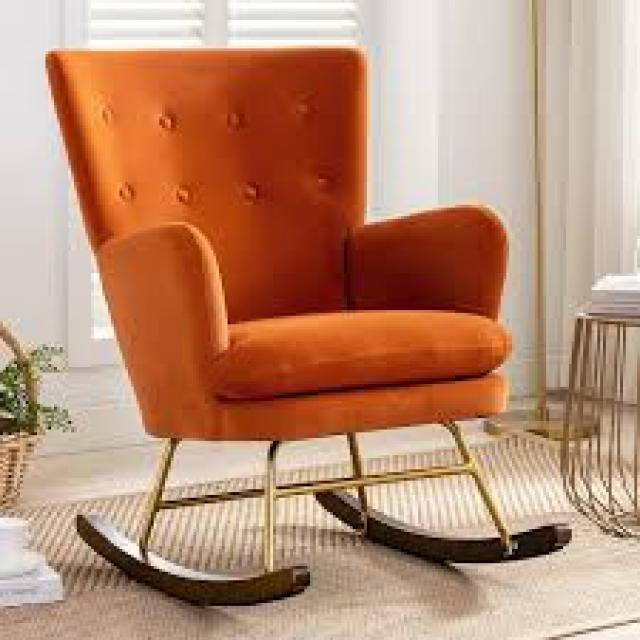chair: (42, 44, 578, 612)
